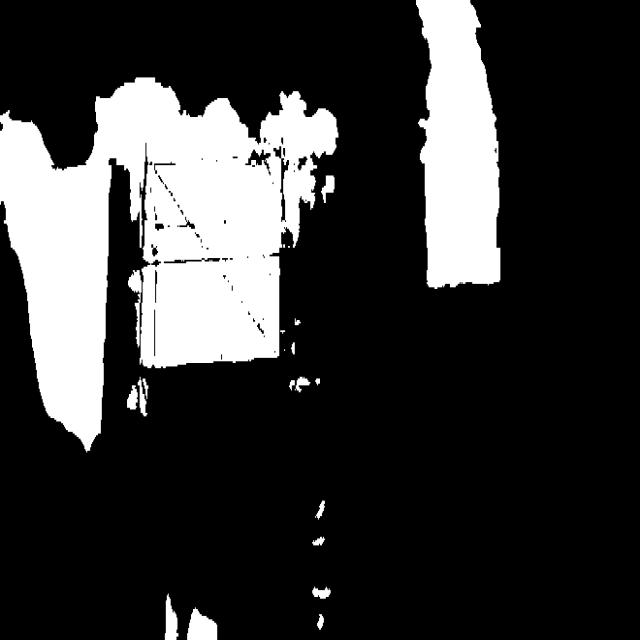fire: (2, 84, 340, 452), (364, 2, 571, 310)
